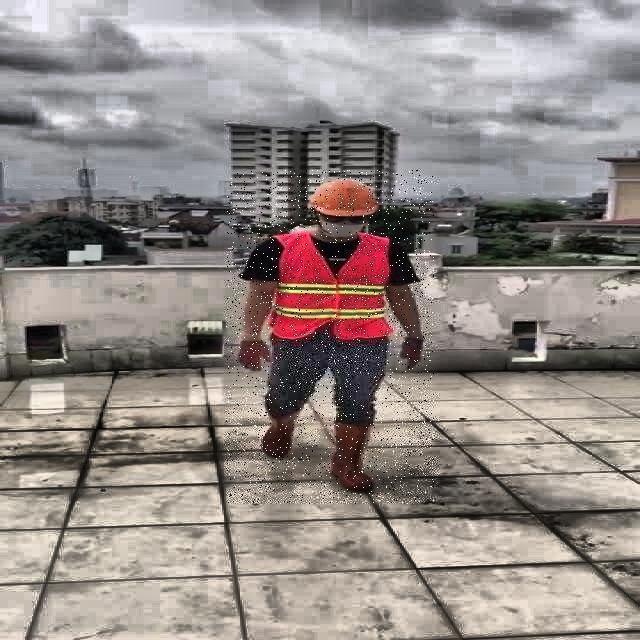safety_helmet: (306, 174, 382, 218)
safety_jacket: (270, 232, 391, 339)
